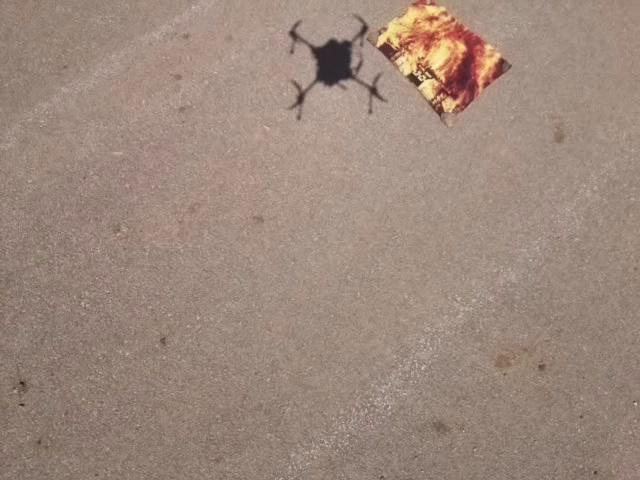fire-poster: (368, 0, 513, 128)
